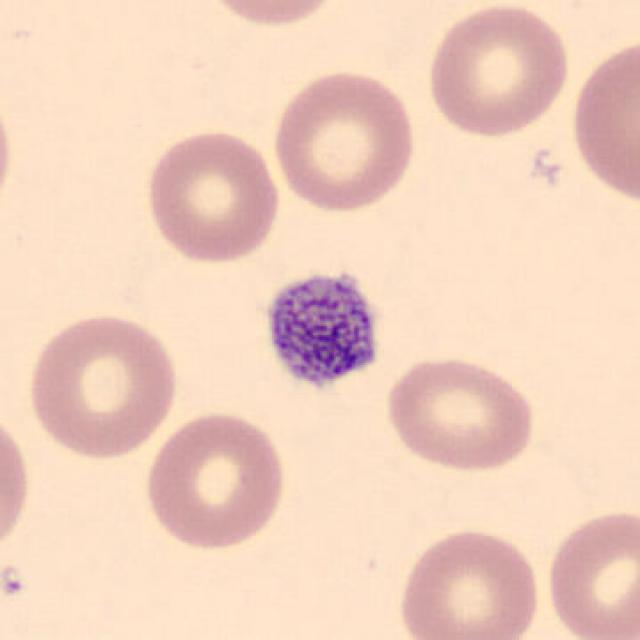Lymphocyte: (254, 262, 391, 398)
Platelets: (256, 264, 389, 400)
RBC: (23, 307, 183, 462), (268, 65, 419, 215), (140, 407, 290, 554), (422, 0, 574, 141), (140, 125, 284, 266), (381, 353, 538, 474), (394, 523, 545, 640), (540, 504, 638, 640), (566, 32, 638, 210), (0, 406, 34, 564), (196, 0, 346, 32), (0, 83, 18, 222)
